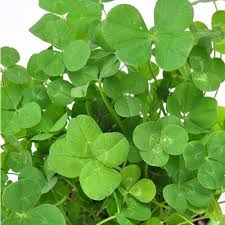4-clover: (50, 113, 128, 200), (103, 1, 194, 71), (133, 114, 188, 168), (167, 81, 219, 135)
